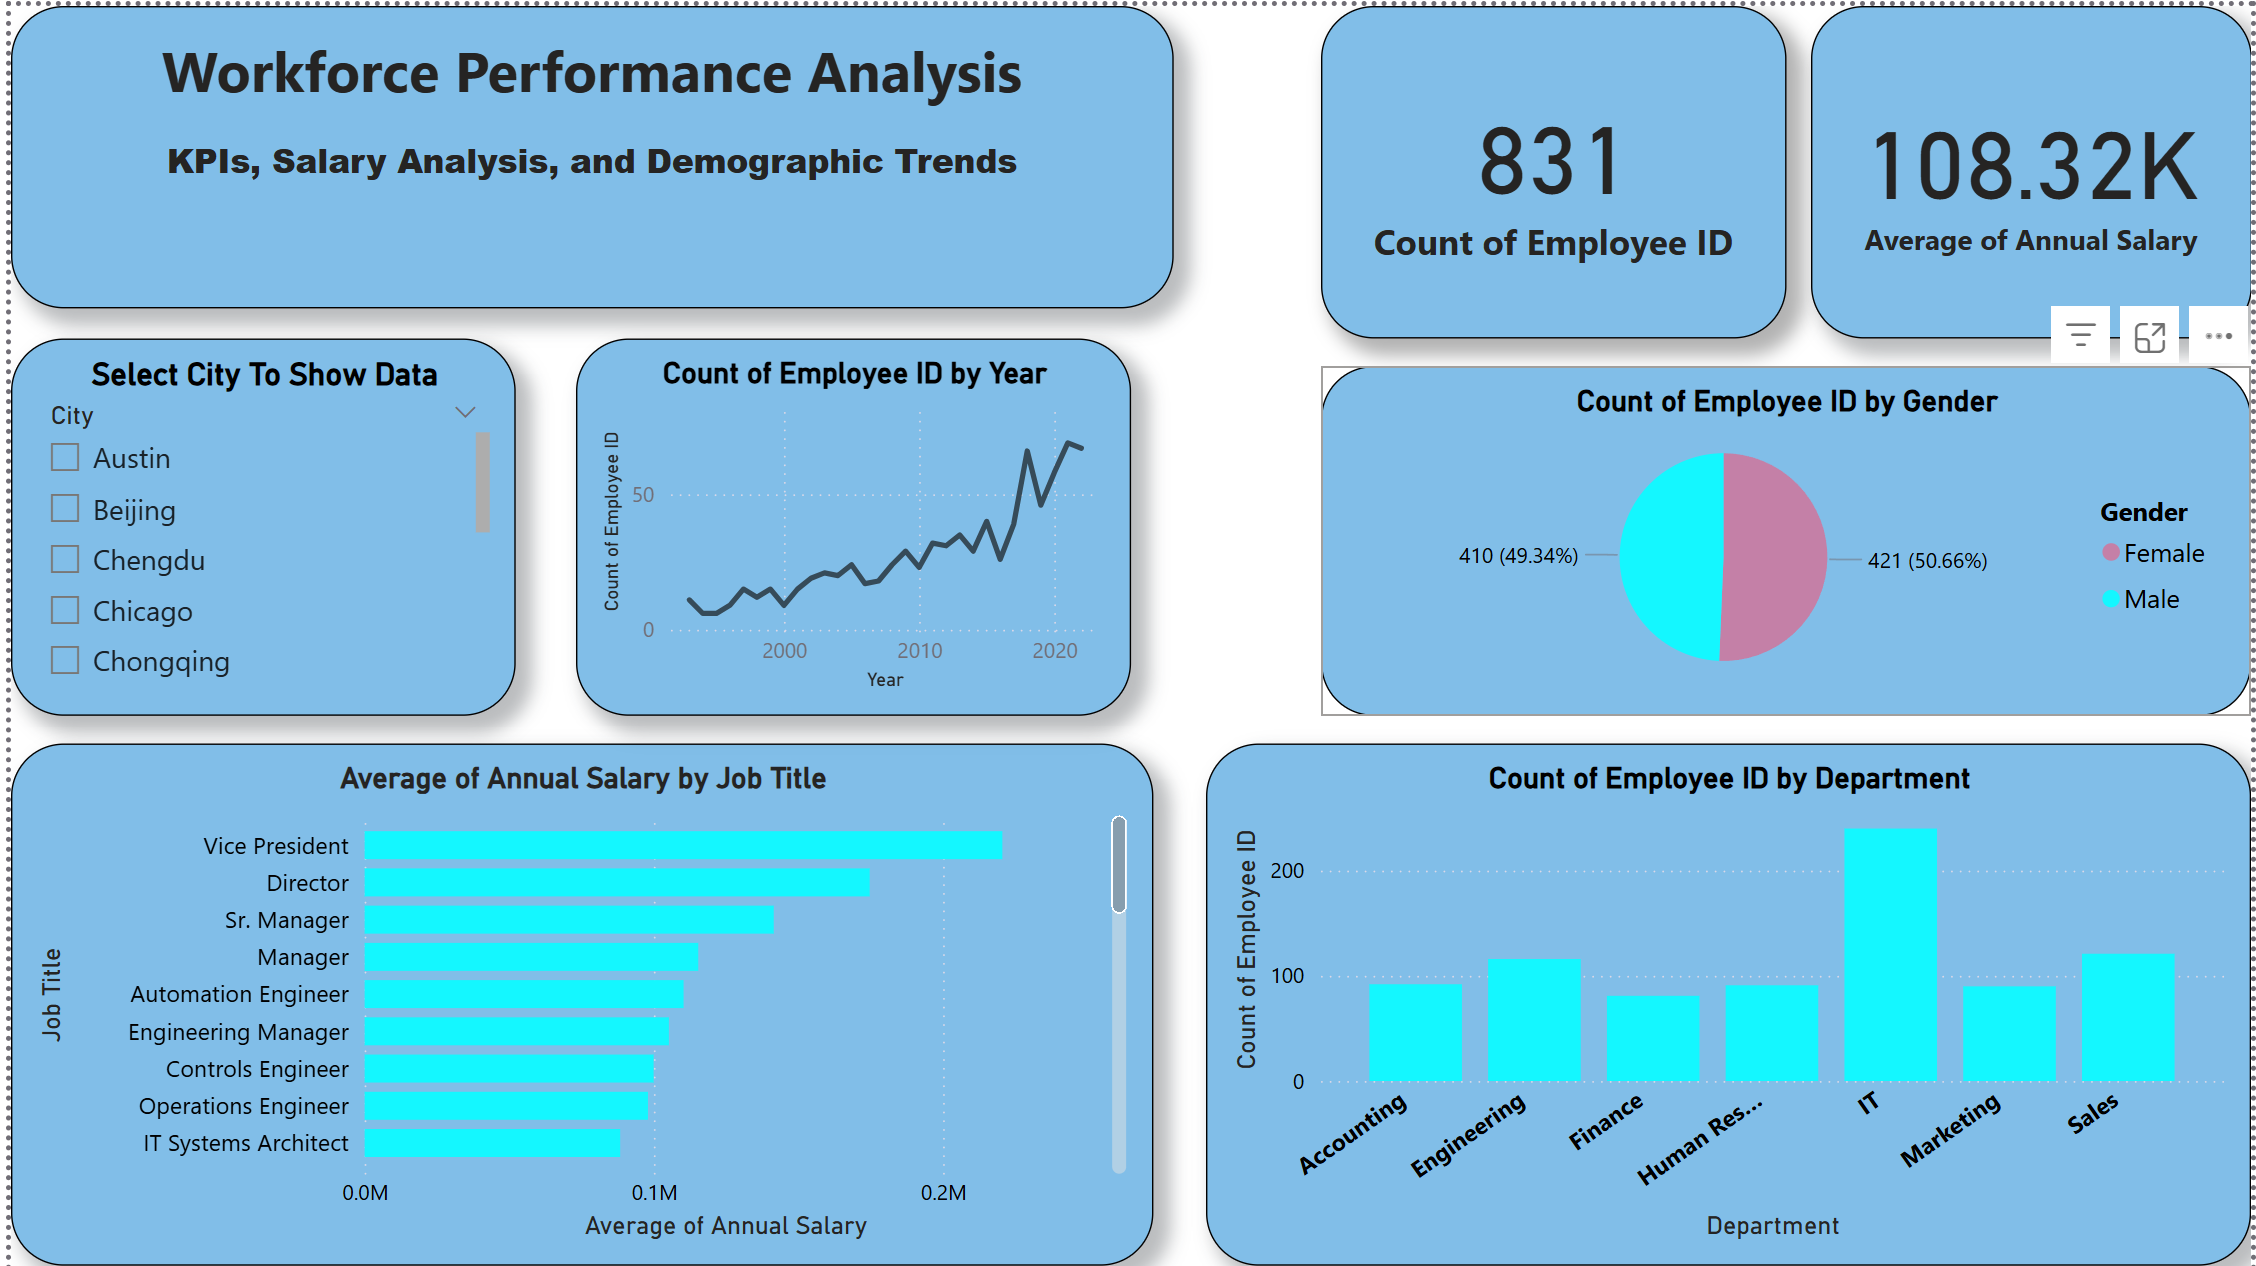

The dashboard page shown, as its layout file describes it:
{"tool":"powerbi","page":{"name":"Page 1","canvas":[1280,720],"ordinal":0},"visuals":[{"type":"card","fields":{"Values":["Count(Employee Sample Data 1.Employee ID)"]},"box":[748,0,266,190],"z":0},{"type":"card","fields":{"Values":["Avg(Employee Sample Data 1.Annual Salary)"]},"box":[1028,0,252,190],"z":1000},{"type":"columnChart","fields":{"Category":["Employee Sample Data 1.Department"],"Y":["Count(Employee Sample Data 1.Employee ID)","select"]},"box":[682.9,421.4,597.1,298.6],"z":2000},{"type":"pieChart","fields":{"Category":["Employee Sample Data 1.Gender"],"Y":["Count(Employee Sample Data 1.Employee ID)"]},"box":[748.6,205.7,531.4,200],"z":3000},{"type":"textbox","box":[0,0,664.3,172.9],"z":4000},{"type":"slicer","title":"Select City To Show Data","fields":{"Values":["Employee Sample Data 1.City"]},"box":[0,190,288.6,215.7],"z":5000},{"type":"clusteredBarChart","fields":{"Category":["Employee Sample Data 1.Job Title"],"Y":["Avg(Employee Sample Data 1.Annual Salary)"]},"box":[0,421.4,652.9,298.6],"z":6000},{"type":"lineChart","fields":{"Category":["Employee Sample Data 1.Hire Date.Variation.Date Hierarchy.Year","Employee Sample Data 1.Hire Date.Variation.Date Hierarchy.Quarter","Employee Sample Data 1.Hire Date.Variation.Date Hierarchy.Month","Employee Sample Data 1.Hire Date.Variation.Date Hierarchy.Day"],"Y":["Count(Employee Sample Data 1.Employee ID)"]},"box":[322.9,190,317.1,215.7],"z":7000}]}

Visuals, with their boxes in screenshot pixels (x1, y1, x2, y2), scaled from the page's 1280x720 canvas onto the 2256x1266 screenshot:
card - Count(Employee Sample Data 1.Employee ID): l=1318, t=0, r=1787, b=334
card - Avg(Employee Sample Data 1.Annual Salary): l=1812, t=0, r=2255, b=334
columnChart - Employee Sample Data 1.Department x Count(Employee Sample Data 1.Employee ID): l=1204, t=741, r=2255, b=1265
pieChart - Employee Sample Data 1.Gender x Count(Employee Sample Data 1.Employee ID): l=1319, t=362, r=2255, b=713
textbox: l=0, t=0, r=1171, b=304
"Select City To Show Data" slicer: l=0, t=334, r=509, b=713
clusteredBarChart - Employee Sample Data 1.Job Title x Avg(Employee Sample Data 1.Annual Salary): l=0, t=741, r=1151, b=1265
lineChart - Employee Sample Data 1.Hire Date.Variation.Date Hierarchy.Year x Employee Sample Data 1.Hire Date.Variation.Date Hierarchy.Quarter: l=569, t=334, r=1128, b=713
